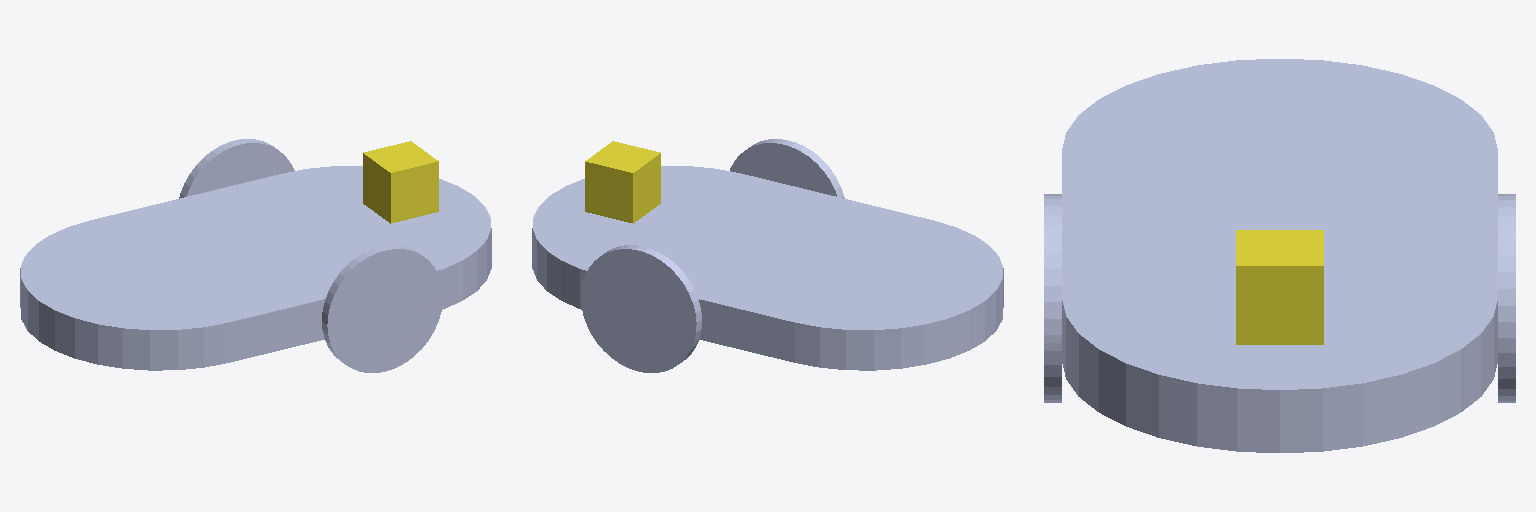
URDF robot description (test2):
<?xml version="1.0" encoding="utf-8"?>
<!-- This URDF was automatically created by SolidWorks to URDF Exporter! Originally created by [author] ([email redacted]) 
     Commit Version: 1.6.0-4-g7f85cfe  Build Version: 1.6.7995.38578
     For more information, please see http://wiki.ros.org/sw_urdf_exporter -->
<robot
  name="test2">

  <link
    name="base_link">
    <inertial>
      <origin
        xyz="0 0 0"
        rpy="0 0 0" />
      <mass
        value="0.1" />
      <inertia
        ixx="0.573051894517131"
        ixy="8.94839687286462E-17"
        ixz="-0.0212217788655825"
        iyy="1.8413277424106"
        iyz="-2.09358370781287E-18"
        izz="2.36982591331089" />
    </inertial>
    <visual>
      <origin
        xyz="0 0 0"
        rpy="0 0 0" />
      <geometry>
        <mesh
          filename="package://test2/meshes/base_link.STL" />
      </geometry>
      <material
        name="">
        <color
          rgba="0.792156862745098 0.819607843137255 0.933333333333333 1" />
      </material>
    </visual>
    <collision>
      <origin
        xyz="0 0 0"
        rpy="0 0 0" />
      <geometry>
        <mesh
          filename="package://test2/meshes/base_link.STL" />
      </geometry>
    </collision>
  </link>
  <link
    name="leftlink">
    <inertial>
      <origin
        xyz="-2.77555756156289E-17 -0.527857142857143 -1.11022302462516E-16"
        rpy="0 0 0" />
      <mass
        value="2.5" />
      <inertia
        ixx="0.00336127973986582"
        ixy="1.24575282199214E-19"
        ixz="1.9445840773932E-35"
        iyy="0.00655257687722492"
        iyz="1.52004437652461E-36"
        izz="0.00336127973986582" />
    </inertial>
    <visual>
      <origin
        xyz="0 0 0"
        rpy="0 0 0" />
      <geometry>
        <mesh
          filename="package://test2/meshes/leftlink.STL" />
      </geometry>
      <material
        name="">
        <color
          rgba="0.792156862745098 0.819607843137255 0.933333333333333 1" />
      </material>
    </visual>
    <collision>
      <origin
        xyz="0 0 0"
        rpy="0 0 0" />
      <geometry>
        <mesh
          filename="package://test2/meshes/leftlink.STL" />
      </geometry>
    </collision>
  </link>
  <joint
    name="leftjoint"
    type="continuous">
    <origin
      xyz="0.11202 0.27 -0.042101"
      rpy="0 0 0" />
    <parent
      link="base_link" />
    <child
      link="leftlink" />
    <axis
      xyz="0 1 0" />
    <limit
      effort="1"
      velocity="1" />
  </joint>
  <link
    name="rightlink">
    <inertial>
      <origin
        xyz="-2.77555756156289E-17 0.527857142857143 1.11022302462516E-16"
        rpy="0 0 0" />
      <mass
        value="2.5" />
      <inertia
        ixx="0.00336127973986582"
        ixy="-7.06059686911802E-20"
        ixz="-7.48194790221564E-19"
        iyy="0.00655257687722492"
        iyz="-4.5303311269179E-20"
        izz="0.00336127973986583" />
    </inertial>
    <visual>
      <origin
        xyz="0 0 0"
        rpy="0 0 0" />
      <geometry>
        <mesh
          filename="package://test2/meshes/rightlink.STL" />
      </geometry>
      <material
        name="">
        <color
          rgba="0.792156862745098 0.819607843137255 0.933333333333333 1" />
      </material>
    </visual>
    <collision>
      <origin
        xyz="0 0 0"
        rpy="0 0 0" />
      <geometry>
        <mesh
          filename="package://test2/meshes/rightlink.STL" />
      </geometry>
    </collision>
  </link>
  <joint
    name="rightjoint"
    type="continuous">
    <origin
      xyz="0.11202 -0.27 -0.042101"
      rpy="0 0 0" />
    <parent
      link="base_link" />
    <child
      link="rightlink" />
    <axis
      xyz="0 1 0" />
    <limit
      effort="1"
      velocity="1" />
  </joint>
  <link name="camera_link">
    <collision>
      <origin xyz="0 0 0" rpy="0 0 0"/>
      <geometry>
    <box size="0.1 0.1 0.1"/>
      </geometry>
    </collision>

    <visual>
      <origin xyz="0 0 0" rpy="0 0 0"/>
      <geometry>
   <box size="0.1 0.1 0.1"/>
      </geometry>
      <material name="red"/>
    </visual>

    <inertial>
      <mass value="1e-5" />
      <origin xyz="0 0 0" rpy="0 0 0"/>
      <inertia ixx="1e-6" ixy="0" ixz="0" iyy="1e-6" iyz="0" izz="1e-6" />
    </inertial>
  </link>
   <joint name="camera" type="fixed">
    <axis xyz="0 0 1" />
    <origin xyz="0.3 0 0.06" rpy="0 0 0"/>
    <parent link="base_link"/>
    <child link="camera_link"/>
  </joint>
  <transmission name="Rev1_tran">
  <type>transmission_interface/SimpleTransmission</type>
  <joint name="leftjoint">
    <hardwareInterface>hardware_interface/EffortJointInterface</hardwareInterface>
  </joint>
  <actuator name="Rev1_actr">
    <hardwareInterface>hardware_interface/EffortJointInterface</hardwareInterface>
    <mechanicalReduction>1</mechanicalReduction>
  </actuator>
</transmission>

<transmission name="Rev2_tran">
  <type>transmission_interface/SimpleTransmission</type>
  <joint name="rightjoint">
    <hardwareInterface>hardware_interface/EffortJointInterface</hardwareInterface>
  </joint>
  <actuator name="Rev2_actr">
    <hardwareInterface>hardware_interface/EffortJointInterface</hardwareInterface>
    <mechanicalReduction>1</mechanicalReduction>
  </actuator>
</transmission>


  <gazebo>
<plugin name="differential_drive_controller"
filename="libgazebo_ros_diff_drive.so">
<rosDebugLevel>Debug</rosDebugLevel>
<publishWheelTF>false</publishWheelTF>
<robotNamespace>/</robotNamespace>
<publishTf>1</publishTf>
<publishWheelJointState>false</publishWheelJointState>
<alwaysOn>true</alwaysOn>
<updateRate>100.0</updateRate>
<leftJoint>leftjoint</leftJoint>
<rightJoint>rightjoint</rightJoint>
<wheelSeparation>0.52496</wheelSeparation>
<wheelDiameter>0.24</wheelDiameter>
<broadcastTF>1</broadcastTF>
<wheelTorque>10</wheelTorque>
<wheelAcceleration>1.8</wheelAcceleration>
<commandTopic>cmd_vel</commandTopic>
<odometryFrame>odom</odometryFrame>
<odometryTopic>odom</odometryTopic>

<robotBaseFrame>base_footprint</robotBaseFrame>
  <publishWheelTF>true</publishWheelTF>

    <!-- Set to true to publish transforms for the odometry, defaults to true -->
    <publishOdom>true</publishOdom>

    <!-- Set to true to publish sensor_msgs/JointState on /joint_states for the wheel joints, defaults to false -->
    <publishWheelJointState>true</publishWheelJointState>

    <!-- Set to true to swap right and left wheels, defaults to true -->
    <legacyMode>false</legacyMode>
</plugin>
</gazebo>
 <!-- hokuyo -->
  <gazebo reference="camera_link">
      <sensor type="ray" name="head_hokuyo_sensor">
      <pose>0 0 0 0 0 0</pose>
      <visualize>true</visualize>
      <update_rate>40</update_rate>
      <ray>
        <scan>
          <horizontal>
            <samples>720</samples>
            <resolution>1</resolution>
            <min_angle>-1.570796</min_angle>
            <max_angle>1.570796</max_angle>
          </horizontal>
        </scan>
        <range>
          <min>0.10</min>
          <max>30.0</max>
          <resolution>0.01</resolution>
        </range>
        <noise>
          <type>gaussian</type>
          <!-- Noise parameters based on published spec for Hokuyo laser
               achieving "+-30mm" accuracy at range < 10m.  A mean of 0.0m and
               stddev of 0.01m will put 99.7% of samples within 0.03m of the true
               reading. -->
          <mean>0.0</mean>
          <stddev>0.01</stddev>
        </noise>
      </ray>
      <plugin name="gazebo_ros_head_hokuyo_controller" filename="libgazebo_ros_laser.so">
        <topicName>/scan</topicName>
        <frameName>camera_link</frameName>
      </plugin>
    </sensor>
  </gazebo>
</robot>

--- What the picture shows (computed from the rendered views, not written in the file) ---
Views: 3 orthographic renders of the robot side by side, from view 1: azimuth 30°, elevation 25°; view 2: azimuth 150°, elevation 25°; view 3: azimuth 270°, elevation 25°.
Robot: test2 — 4 links, 3 joints (2 continuous, 1 fixed); root link base_link; default pose: every joint at zero.
Visible links, largest first — view 1: base_link, leftlink, camera_link, rightlink; view 2: base_link, rightlink, camera_link, leftlink; view 3: base_link, camera_link, leftlink, rightlink.
Link boxes in pixels (x1,y1,x2,y2): base_link: [20, 166, 491, 370]; leftlink: [322, 245, 442, 372]; camera_link: [363, 141, 438, 223]; rightlink: [179, 139, 294, 198]; base_link: [532, 166, 1003, 370]; rightlink: [581, 245, 701, 372]; camera_link: [585, 141, 660, 223]; leftlink: [730, 139, 844, 198]; base_link: [1062, 59, 1497, 452]; camera_link: [1236, 230, 1323, 344]; leftlink: [1044, 194, 1061, 402]; rightlink: [1498, 194, 1515, 402].
Bounding box of the posed robot: 0.9 × 0.54 × 0.2721 m (x, y, z).
Meshes: 3 distinct files referenced, 3 mesh visuals loaded (3 binary STL).
